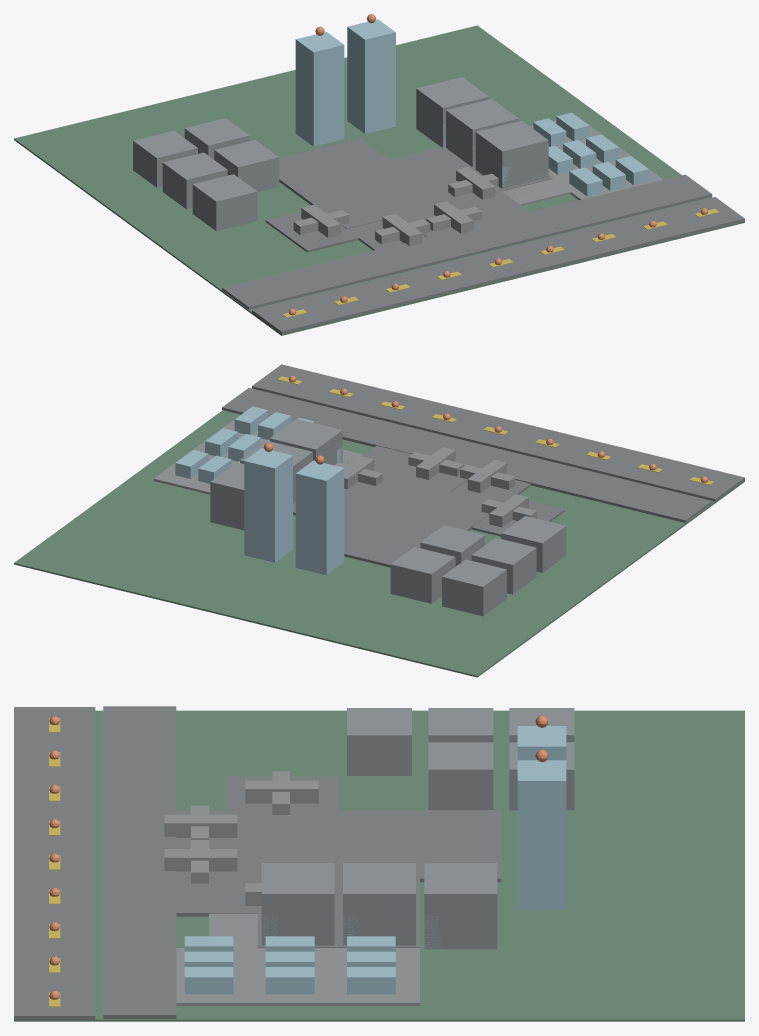
File: stage_24.glb
3 renders of one model, top to bottom at view 1: azimuth 30°, elevation 25°; view 2: azimuth 150°, elevation 25°; view 3: azimuth 270°, elevation 25°, orthographic. The views are drawn at different scales.
Parts seen in each view (by area): view 1: geometry_0; view 2: geometry_0; view 3: geometry_0.
Part boxes in pixels (x1=…): geometry_0: x1=14, y1=14, x2=744, y2=335; geometry_0: x1=14, y1=364, x2=744, y2=677; geometry_0: x1=14, y1=706, x2=744, y2=1021.
Size of the model in its own units: 9 by 2.06 by 9.
